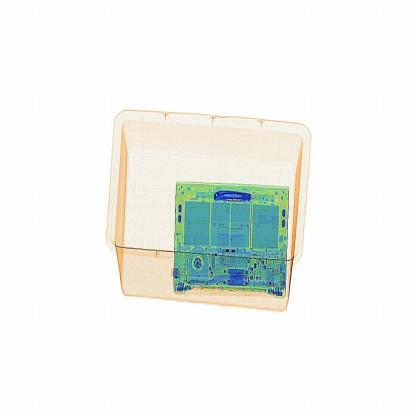knife: (212, 178, 257, 210)
